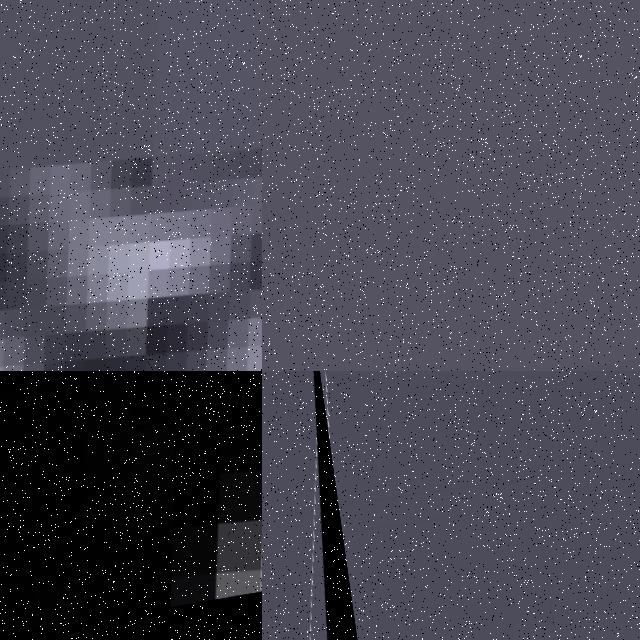0: (0, 0, 262, 371), (262, 371, 377, 640)
drone: (0, 371, 262, 640)
